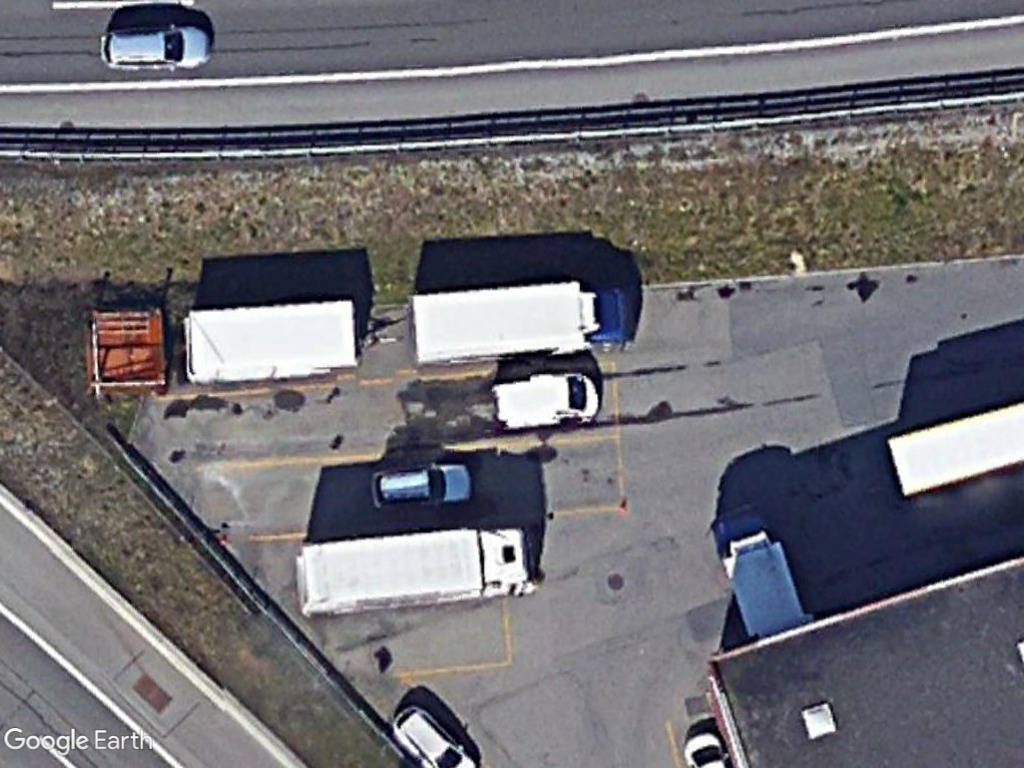car: (367, 459, 476, 516), (100, 23, 215, 72)
truck: (293, 522, 536, 625), (409, 273, 637, 365)
van: (490, 372, 599, 432)
